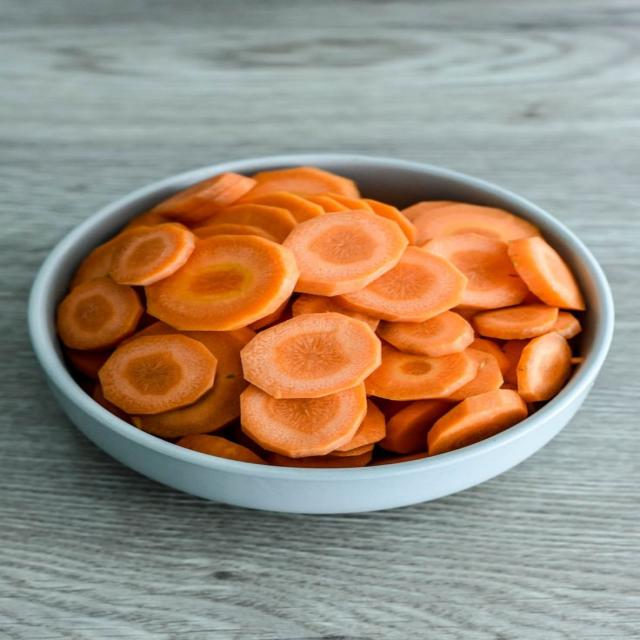carrot: (146, 236, 299, 330), (133, 329, 254, 437), (241, 314, 380, 398), (284, 211, 407, 295), (338, 247, 466, 322), (99, 334, 217, 414), (241, 384, 366, 457), (423, 233, 527, 308), (427, 390, 527, 455), (366, 344, 477, 400), (57, 278, 142, 350), (508, 237, 585, 310), (153, 172, 256, 223), (110, 224, 195, 285), (413, 204, 539, 245), (319, 194, 415, 243), (378, 311, 474, 357), (379, 400, 452, 454), (517, 333, 571, 401), (247, 167, 359, 199), (203, 204, 296, 242), (292, 294, 379, 331), (448, 348, 503, 401), (332, 400, 385, 455), (473, 305, 558, 339), (70, 235, 121, 288), (177, 434, 265, 464), (247, 192, 325, 223), (362, 199, 415, 244), (268, 451, 372, 468), (225, 420, 269, 459), (118, 321, 179, 347), (93, 383, 132, 423), (194, 224, 277, 242), (64, 348, 112, 379), (470, 338, 510, 375), (248, 300, 291, 331), (502, 340, 529, 387), (401, 201, 460, 222), (121, 210, 170, 232), (320, 193, 374, 212), (372, 397, 412, 420), (307, 194, 353, 213), (551, 311, 581, 339), (370, 452, 427, 465), (327, 444, 374, 457), (136, 311, 158, 331), (451, 307, 480, 322), (522, 291, 543, 304), (500, 382, 517, 390), (571, 357, 583, 365)
